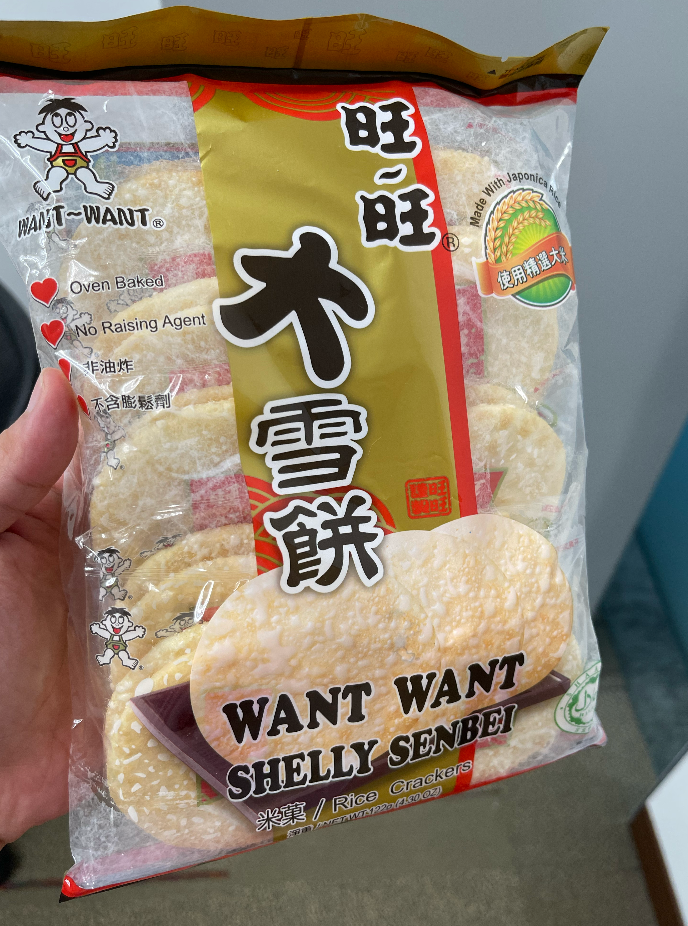crackers_100g-199g: (80, 119, 546, 786)
